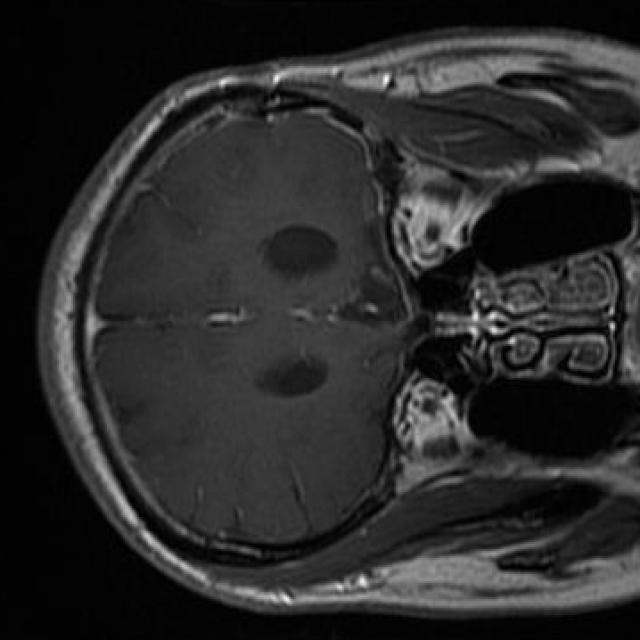glioma: (339, 214, 410, 324)
